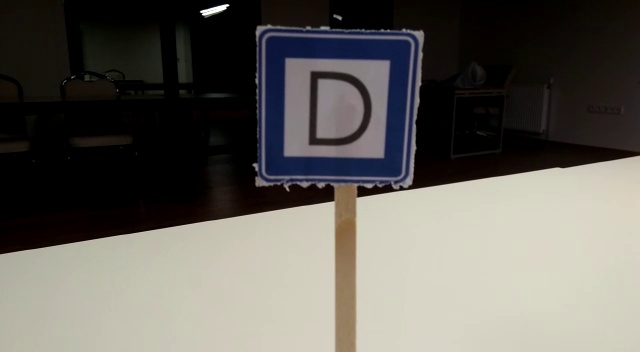durak: (256, 32, 419, 185)
